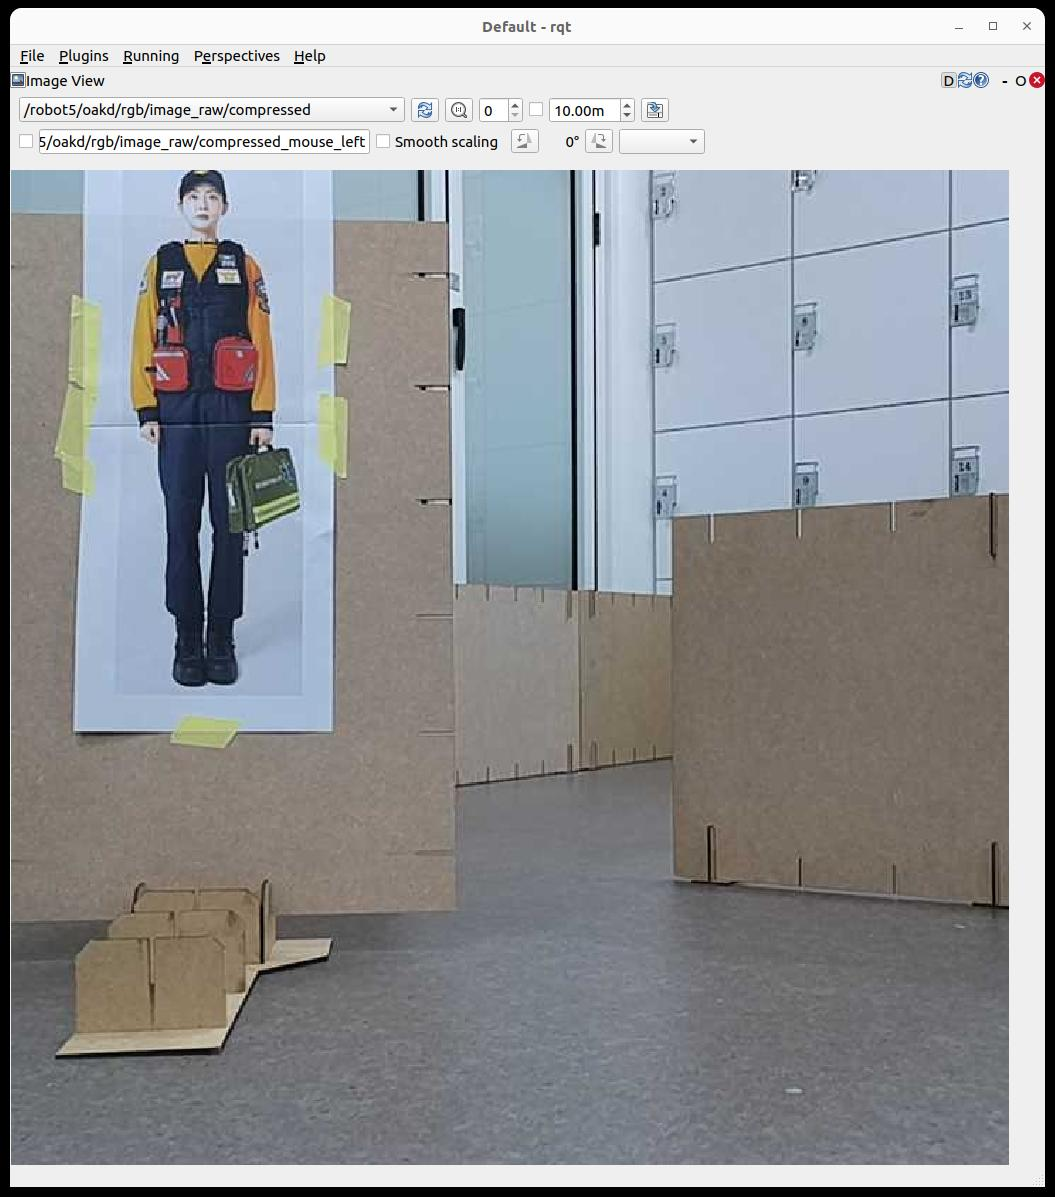Responder: (131, 171, 276, 686)
